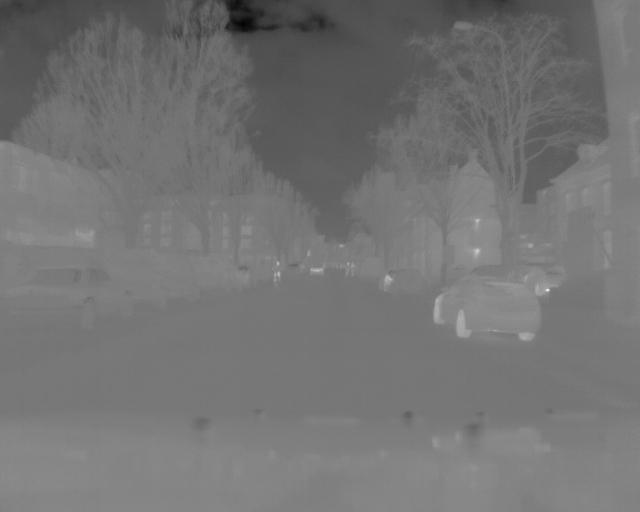car: (429, 278, 544, 343), (8, 271, 134, 329), (376, 268, 428, 300)
person: (270, 260, 281, 286)
